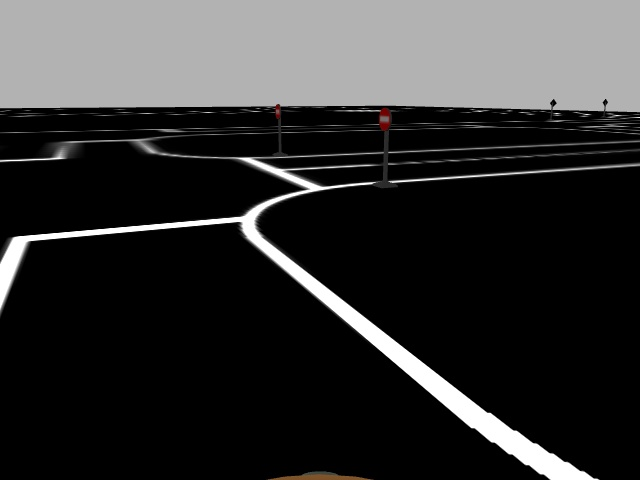prohibited: (378, 107, 391, 133)
